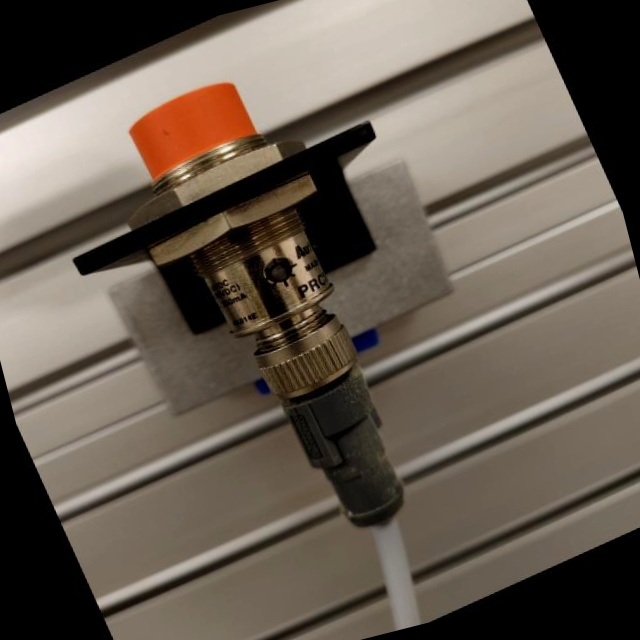inductive sensor: (7, 0, 569, 626)
